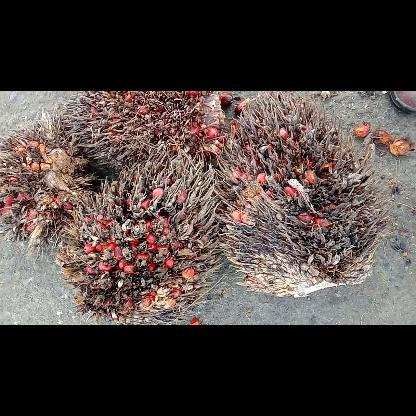Terlalu masak: (214, 90, 398, 302), (55, 148, 226, 324), (0, 111, 105, 264), (58, 91, 228, 183)
